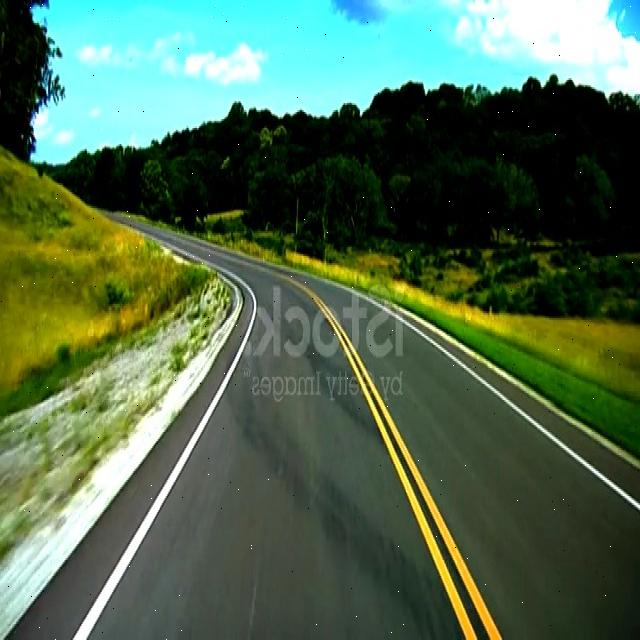lane: (293, 280, 500, 637), (73, 284, 256, 638), (481, 377, 639, 511)
road: (7, 251, 637, 637)
